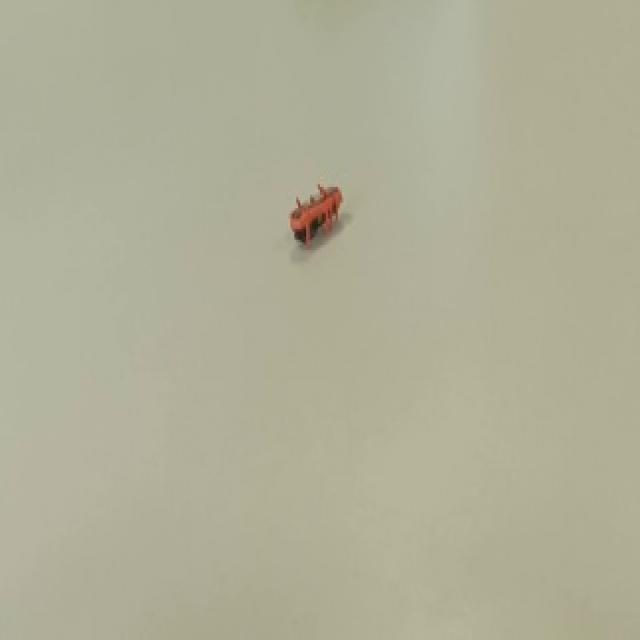7_NanoBug_Naranja: (282, 152, 366, 271)
